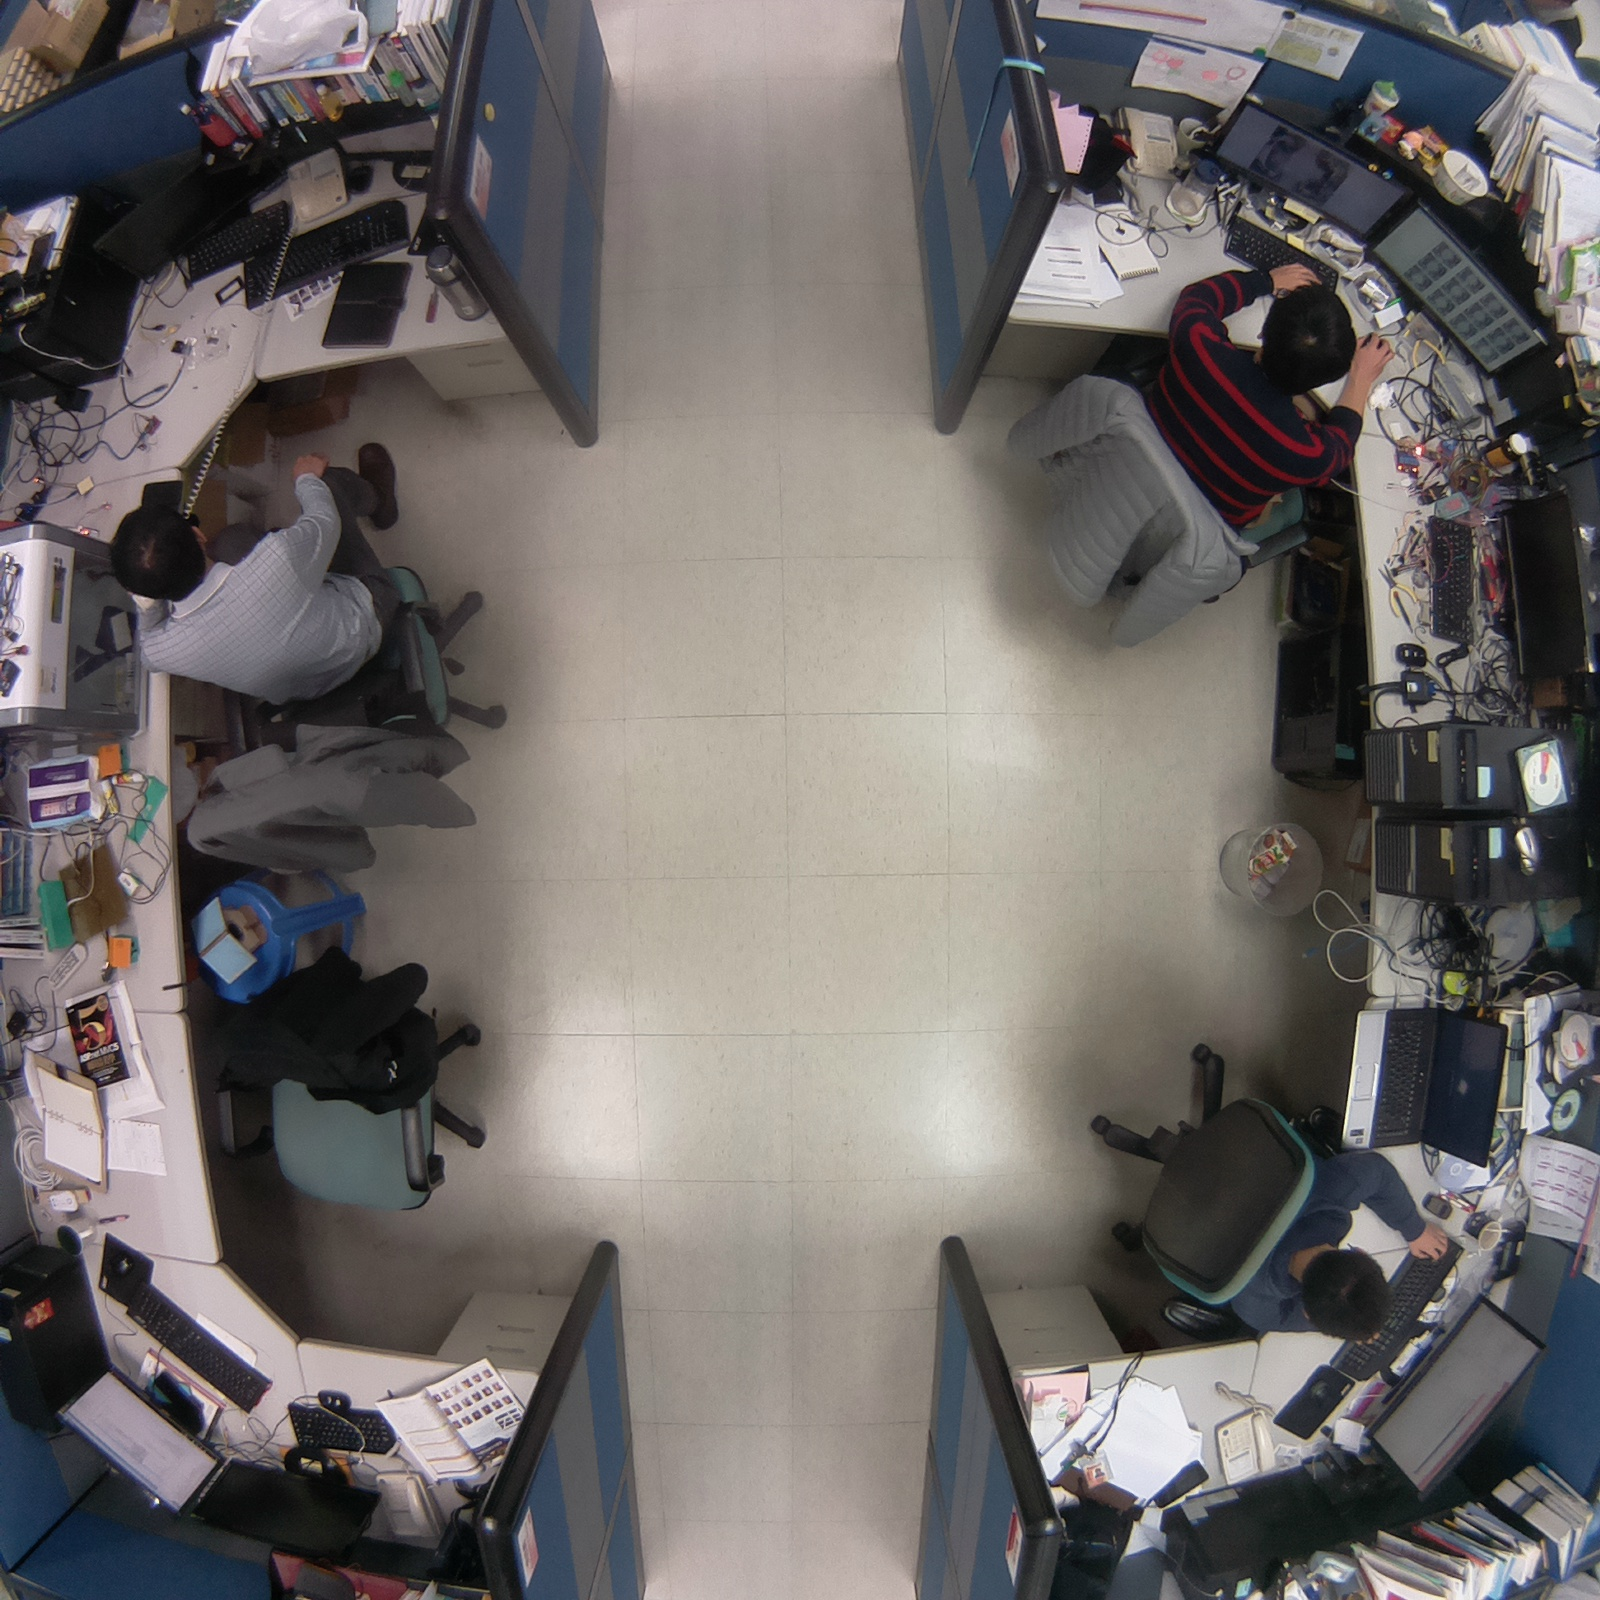chair: (222, 942, 501, 1229)
head: (1251, 280, 1361, 391), (106, 500, 217, 604), (1297, 1244, 1395, 1348)
sitting: (94, 432, 532, 881), (981, 252, 1401, 655), (1083, 1024, 1463, 1355)
